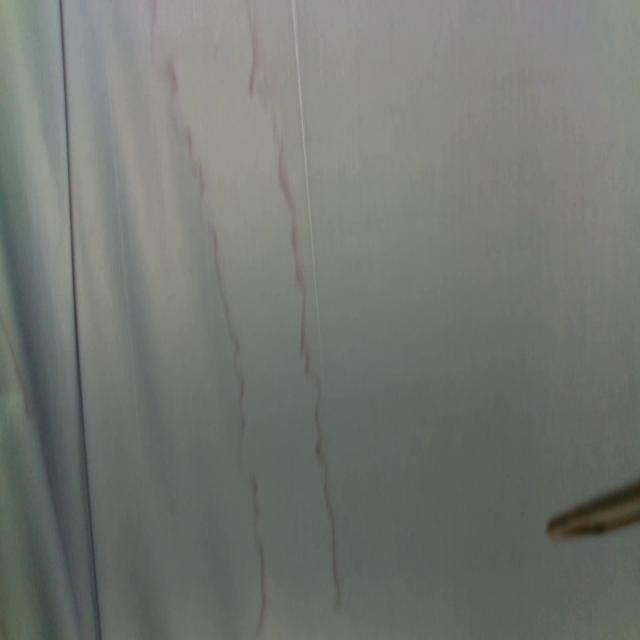crease: (59, 0, 102, 640), (105, 72, 143, 467), (290, 0, 325, 379)
